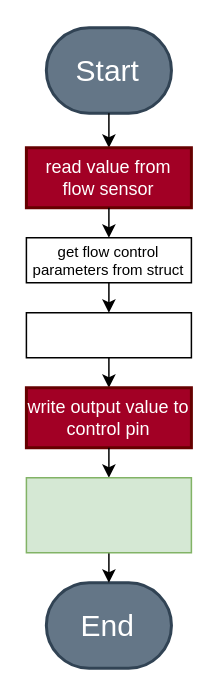
This 219x695 diagram has some shape labels left out. The shapes that lost their labels are listed below. From the top down, each one's centre as x and y in pixels, then its label:
At point (108, 334): "calculate new output value".
At point (108, 514): "update flowVal, prevTime, prevError, integral, prevOutput, output in struct".
